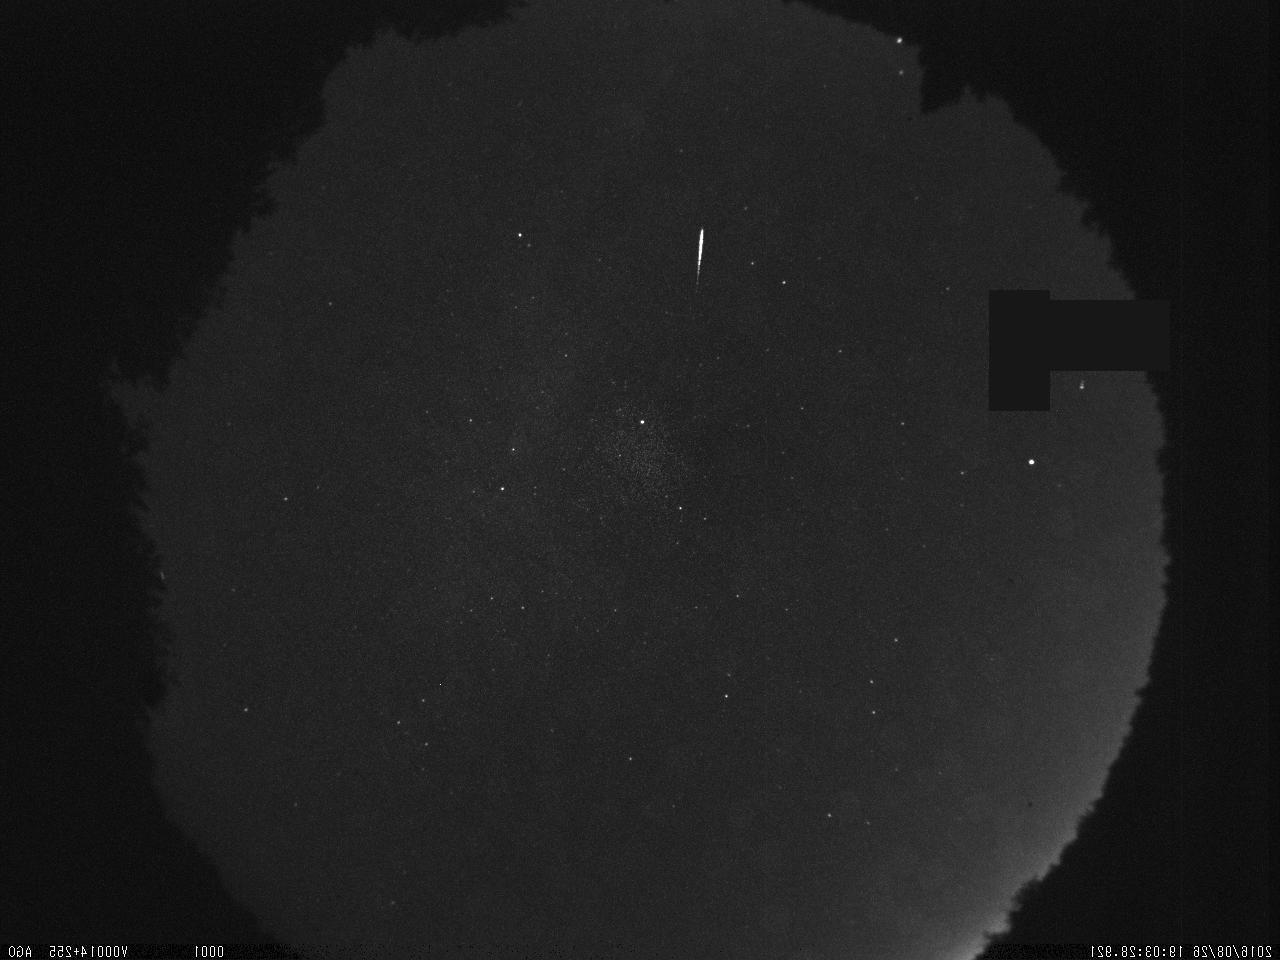meteor: (681, 225, 721, 293)
